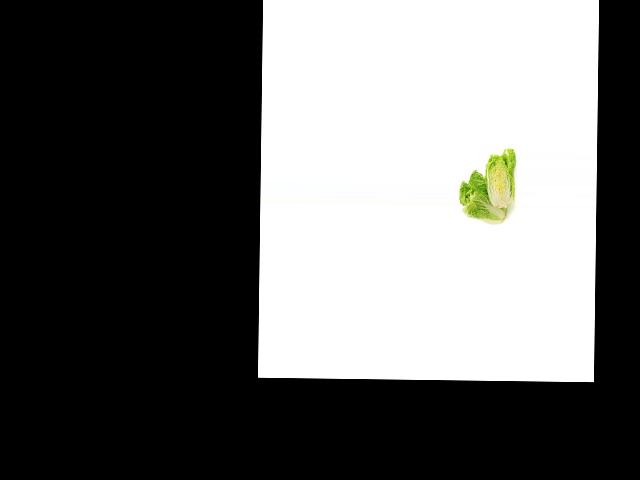lettuce: (456, 166, 510, 225)
